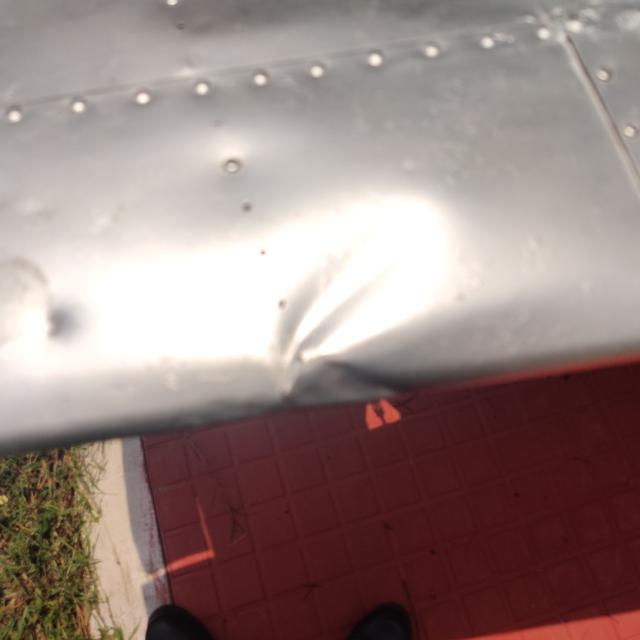dent: (239, 222, 454, 424), (8, 264, 118, 380)
